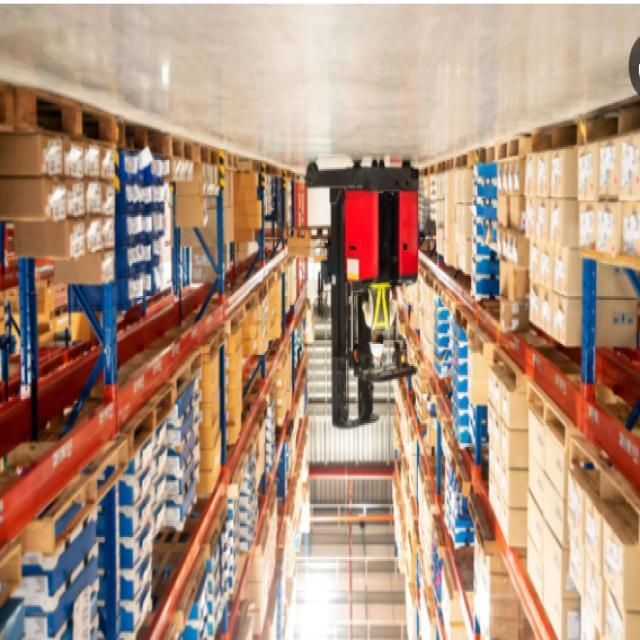hard_hat: (367, 330, 386, 359)
vest: (366, 278, 392, 332)
